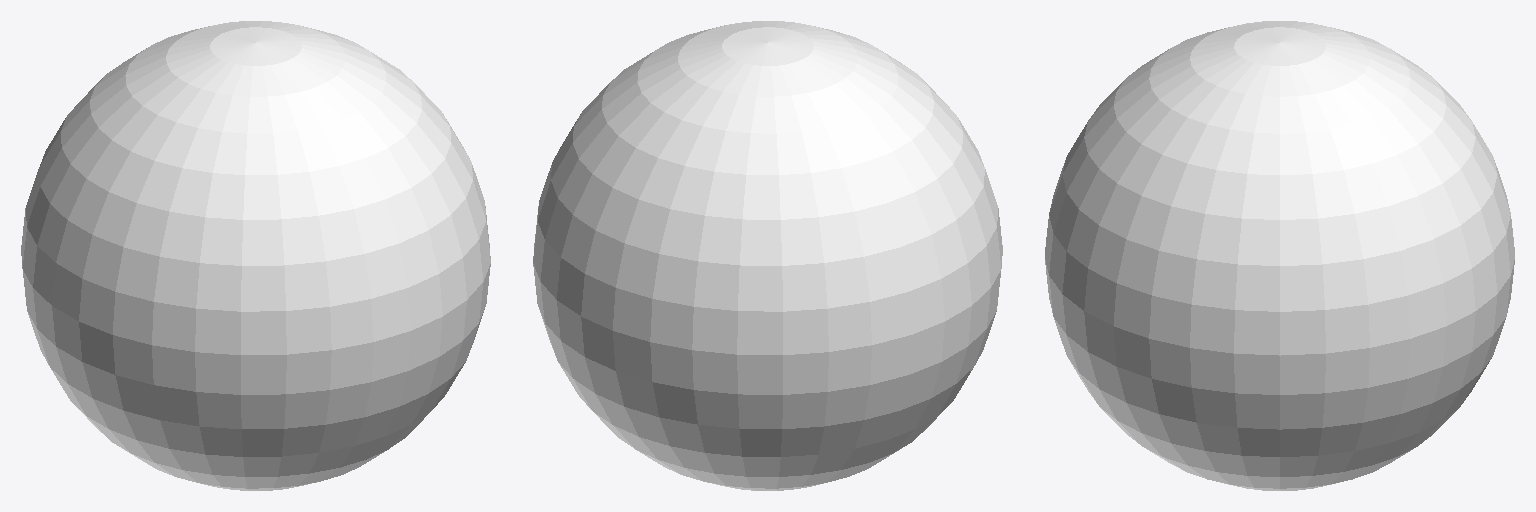
The model's file is Cannonball.obj.
3 views of the same model, side by side, from view 1: azimuth 30°, elevation 25°; view 2: azimuth 150°, elevation 25°; view 3: azimuth 270°, elevation 25° (orthographic).
Visible parts, largest first — view 1: sphere1; view 2: sphere1; view 3: sphere1.
Part boxes in pixels (bbox=[...]): sphere1: bbox=[21, 21, 490, 490]; sphere1: bbox=[533, 21, 1002, 490]; sphere1: bbox=[1045, 21, 1514, 490].
Bounding box in the file's own units: 2 × 2 × 2.